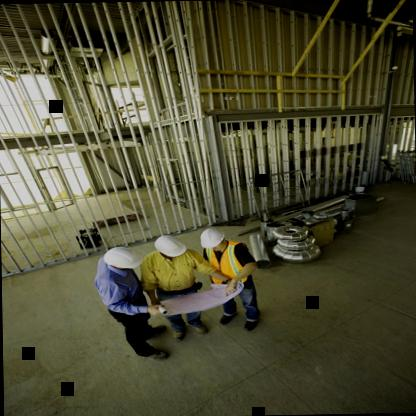helmet: (150, 233, 190, 260), (100, 247, 146, 270), (199, 228, 224, 251)
